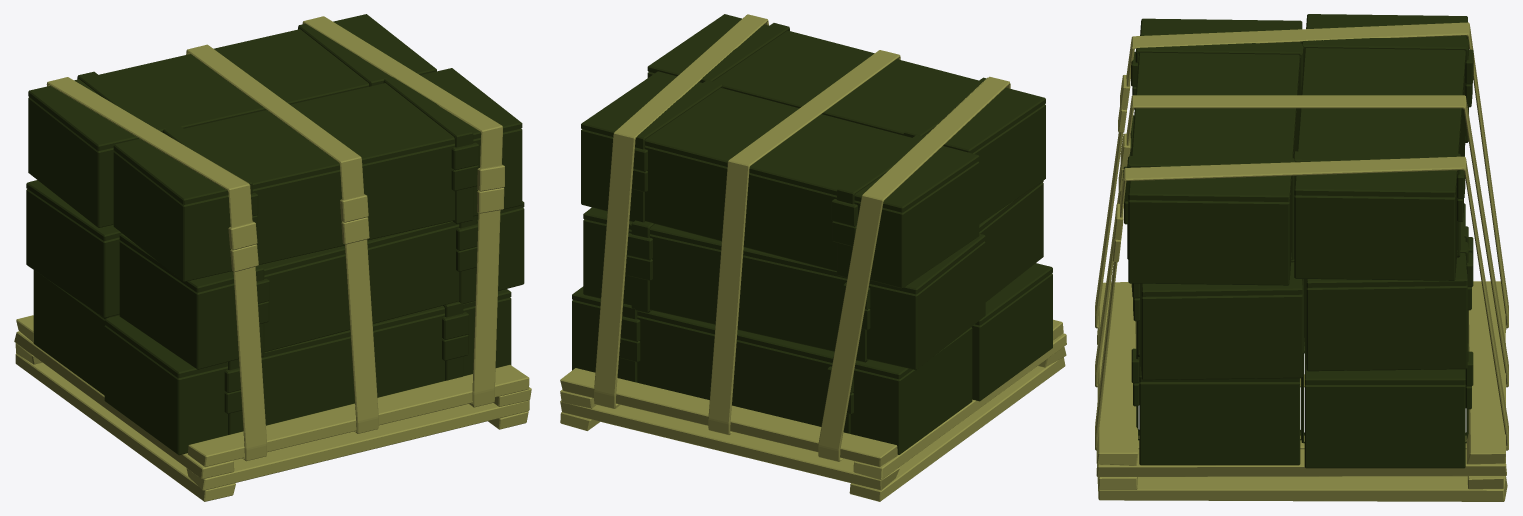
File: Supply Drop.fbx
3 renders of one model, left to right at view 1: azimuth 30°, elevation 25°; view 2: azimuth 150°, elevation 25°; view 3: azimuth 270°, elevation 25°, orthographic. The views are drawn at different scales.
Visible parts, largest first — view 1: Cube.019, Cube.012, Cube.009, Cube.011, Cube.013, Cube.010, Cube.004; view 2: Cube.019, Cube.013, Cube.010, Cube.004, Cube.012, Cube.011, Cube.009; view 3: Cube.019, Cube.013, Cube.012, Cube.004, Cube.009, Cube.010, Cube.011.
Boxes of the visible parts, <box> form: Cube.019: <box>14,16,531,501</box>; Cube.012: <box>113,68,522,281</box>; Cube.009: <box>119,201,524,369</box>; Cube.011: <box>104,289,511,455</box>; Cube.013: <box>28,14,436,227</box>; Cube.010: <box>26,180,121,317</box>; Cube.004: <box>33,270,119,395</box>; Cube.019: <box>560,14,1066,501</box>; Cube.013: <box>581,71,979,288</box>; Cube.010: <box>583,207,985,369</box>; Cube.004: <box>572,286,972,454</box>; Cube.012: <box>647,14,1045,223</box>; Cube.011: <box>972,263,1052,401</box>; Cube.009: <box>979,180,1043,301</box>; Cube.019: <box>1095,22,1508,501</box>; Cube.013: <box>1293,14,1473,280</box>; Cube.012: <box>1122,18,1303,285</box>; Cube.004: <box>1301,203,1473,468</box>; Cube.009: <box>1129,115,1303,380</box>; Cube.010: <box>1304,150,1473,371</box>; Cube.011: <box>1131,348,1301,465</box>.
Bounding box in the file's own units: 130 × 102 × 122.
